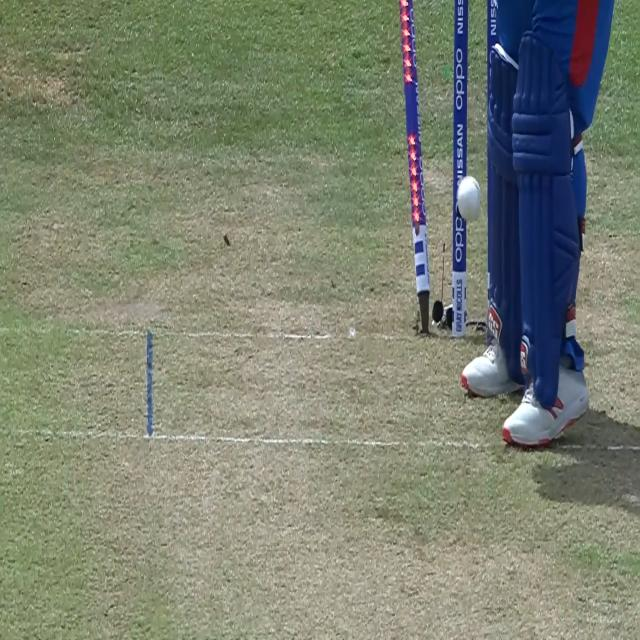ball: (446, 165, 489, 229)
